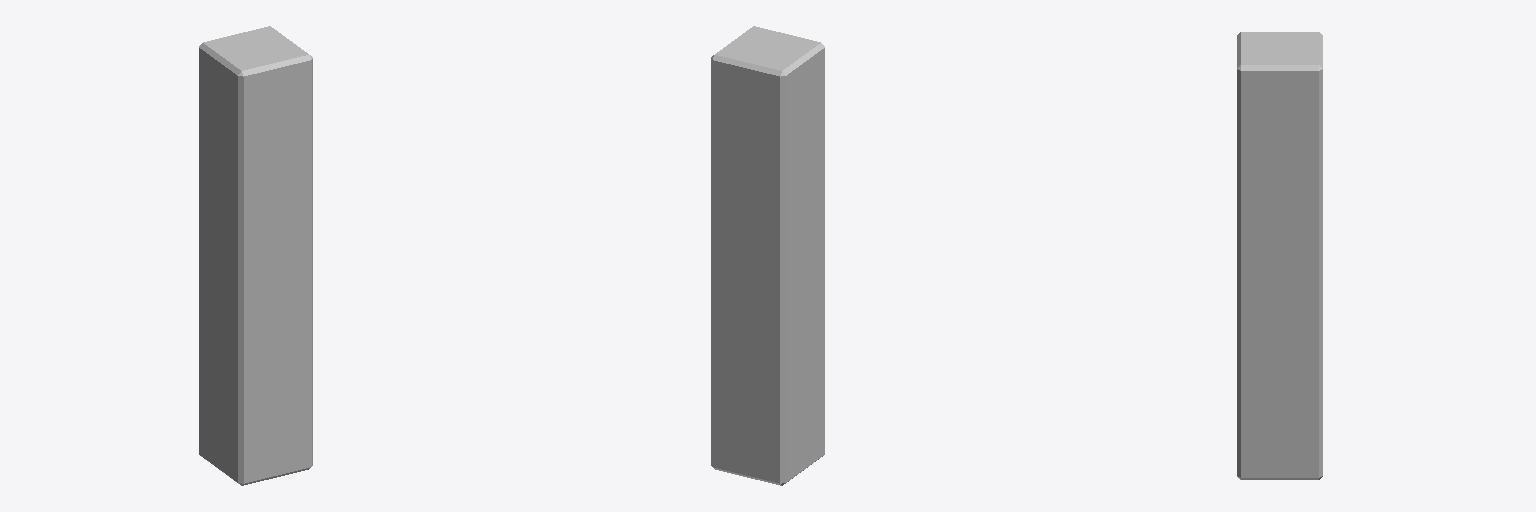
File: column.obj
The picture shows the model from 3 angles: view 1: azimuth 30°, elevation 25°; view 2: azimuth 150°, elevation 25°; view 3: azimuth 270°, elevation 25°; orthographic projection.
Visible parts, largest first — view 1: Cube.002; view 2: Cube.002; view 3: Cube.002.
Boxes of the visible parts, <box> form: Cube.002: <box>199,26,312,485</box>; Cube.002: <box>711,26,824,485</box>; Cube.002: <box>1237,32,1322,479</box>.
Size of the model in its own units: 0.7158 by 3.77 by 0.7158.